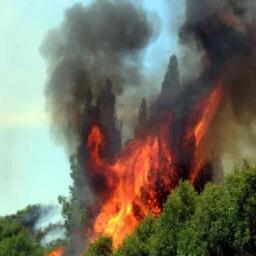Heavy smoke: (37, 0, 256, 182)
Large fire: (72, 43, 240, 255)
